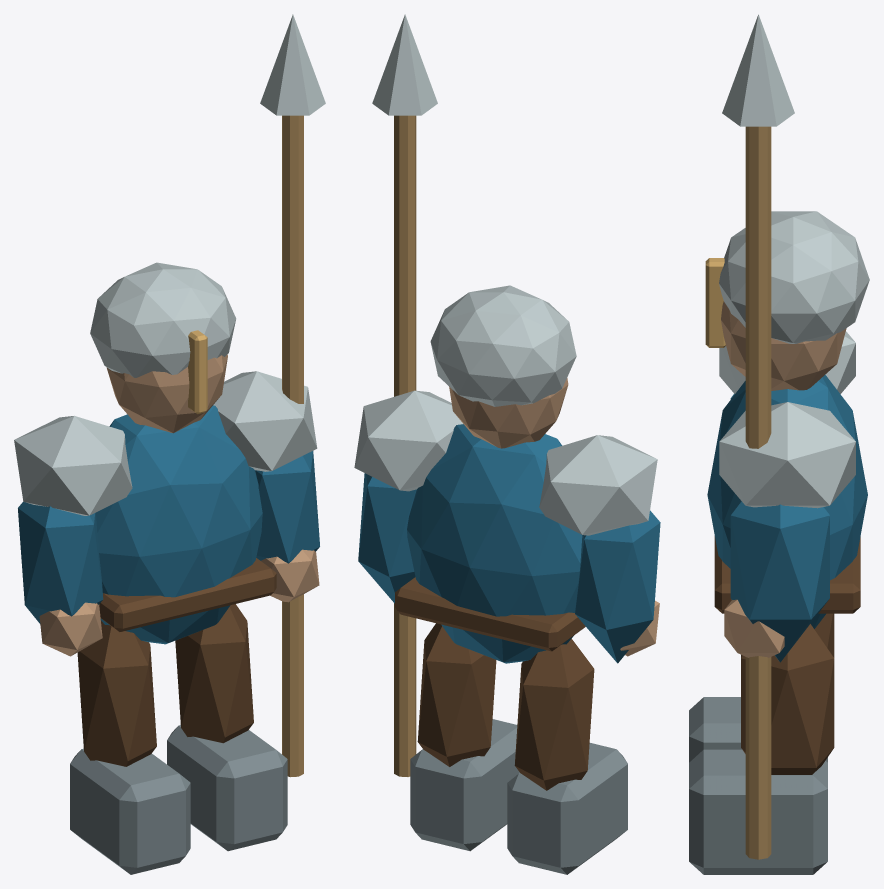
File: soldier.glb
3 renders of one model, left to right at view 1: azimuth 30°, elevation 25°; view 2: azimuth 150°, elevation 25°; view 3: azimuth 270°, elevation 25°, orthographic. The views are drawn at different scales.
Parts seen in each view (by area): view 1: Torso.002, Helmet.001, BootL.002, BootR.002, Spear shaft, Pauldron.002, LegL.002, LegR.002, ArmL.002, Pauldron.003, ArmR.002, Belt.002 (+5 smaller); view 2: Torso.002, Helmet.001, BootL.002, Spear shaft, LegL.002, BootR.002, Pauldron.002, ArmL.002, LegR.002, Pauldron.003, Belt.002, ArmR.002 (+3 smaller); view 3: Spear shaft, BootR.002, Helmet.001, ArmR.002, Pauldron.003, LegR.002, Torso.002, Spearhead, Head.002, BootL.002, Belt.002, HandR.002 (+3 smaller).
Part boxes in pixels (<box>): Torso.002: <box>96,405,262,644</box>; Helmet.001: <box>90,262,236,377</box>; BootL.002: <box>70,748,190,874</box>; BootR.002: <box>167,725,287,851</box>; Spear shaft: <box>282,115,303,777</box>; Pauldron.002: <box>14,416,132,515</box>; LegL.002: <box>77,620,156,766</box>; LegR.002: <box>175,604,253,743</box>; ArmL.002: <box>18,501,103,623</box>; Pauldron.003: <box>213,371,317,471</box>; ArmR.002: <box>255,451,319,563</box>; Belt.002: <box>99,558,276,631</box>; Torso.002: <box>407,424,582,663</box>; Helmet.001: <box>430,285,576,406</box>; BootL.002: <box>507,743,627,874</box>; Spear shaft: <box>394,115,416,776</box>; LegL.002: <box>514,638,594,790</box>; BootR.002: <box>410,719,519,851</box>; Pauldron.002: <box>539,435,657,535</box>; ArmL.002: <box>575,510,660,663</box>; LegR.002: <box>417,623,496,766</box>; Pauldron.003: <box>354,390,462,491</box>; Belt.002: <box>395,577,585,651</box>; ArmR.002: <box>358,473,416,603</box>; Spear shaft: <box>745,126,771,859</box>; BootR.002: <box>689,749,827,874</box>; Helmet.001: <box>719,211,869,343</box>; ArmR.002: <box>730,501,829,662</box>; Pauldron.003: <box>719,402,855,508</box>; LegR.002: <box>741,624,834,774</box>; Torso.002: <box>707,374,867,628</box>; Spearhead: <box>722,14,794,126</box>; Head.002: <box>721,301,846,390</box>; BootL.002: <box>689,697,827,762</box>; Belt.002: <box>714,536,860,613</box>; HandR.002: <box>724,599,784,657</box>.
Size of the model in its own units: 1.01 by 2.67 by 0.495.
